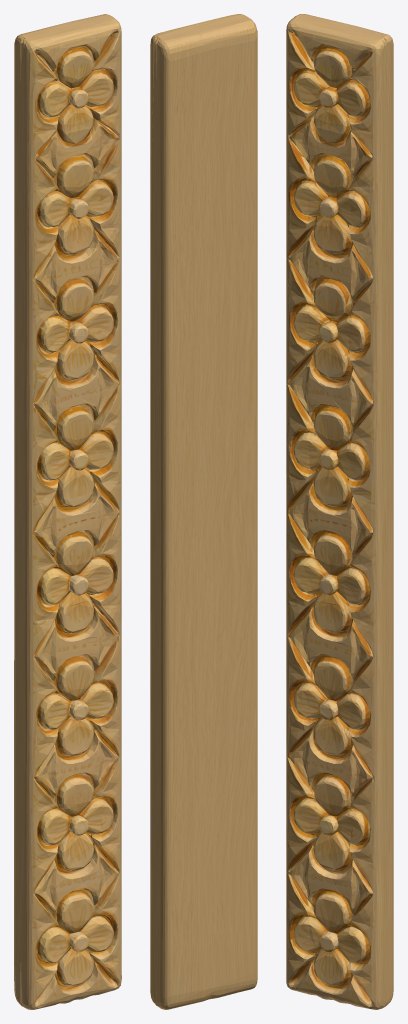
Rendered from 未命名.fbx.
3 views of the same model, side by side, from view 1: azimuth 30°, elevation 25°; view 2: azimuth 210°, elevation 25°; view 3: azimuth 330°, elevation 25° (orthographic).
Visible parts, largest first — view 1: node_0; view 2: node_0; view 3: node_0.
Boxes of the visible parts, left/top/right/bottom form: node_0: left=14, top=14, right=121, bottom=1009; node_0: left=150, top=14, right=257, bottom=1009; node_0: left=286, top=14, right=393, bottom=1009.
Size of the model in its own units: 12.3 by 119 by 5.13.
Materials: 1 (1 with a texture image).
